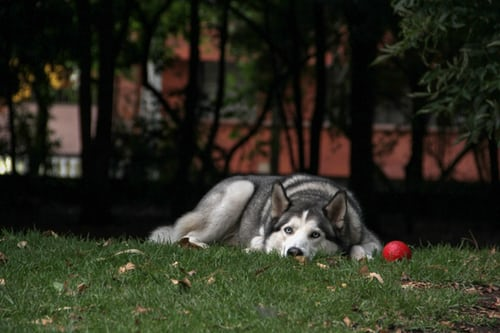husky: (208, 165, 377, 268)
